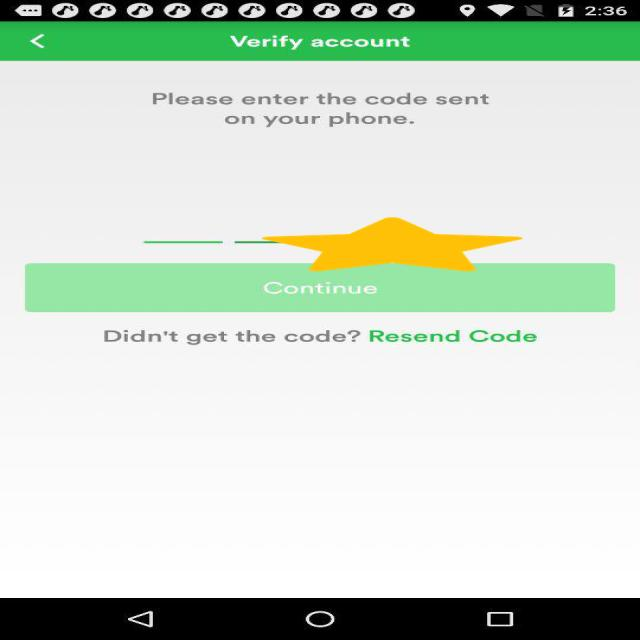forced continuity: (262, 218, 523, 272)
